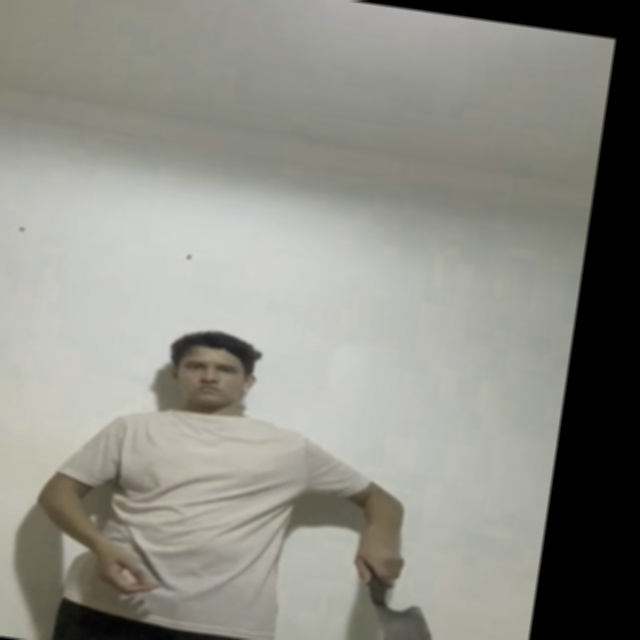Sharp-Object: (366, 598, 447, 640)
